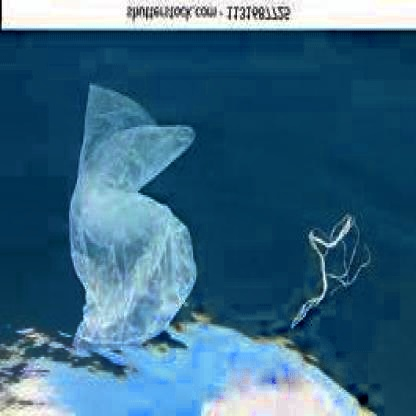pbag: (66, 79, 199, 350)
